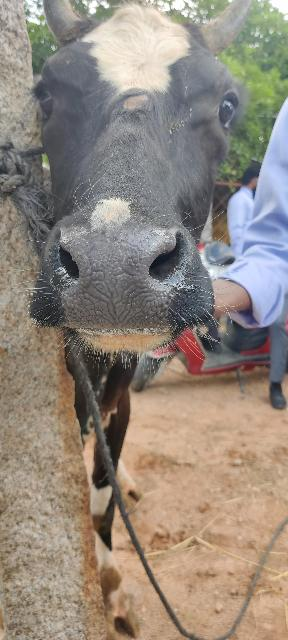Muzzle: (50, 223, 182, 337)
